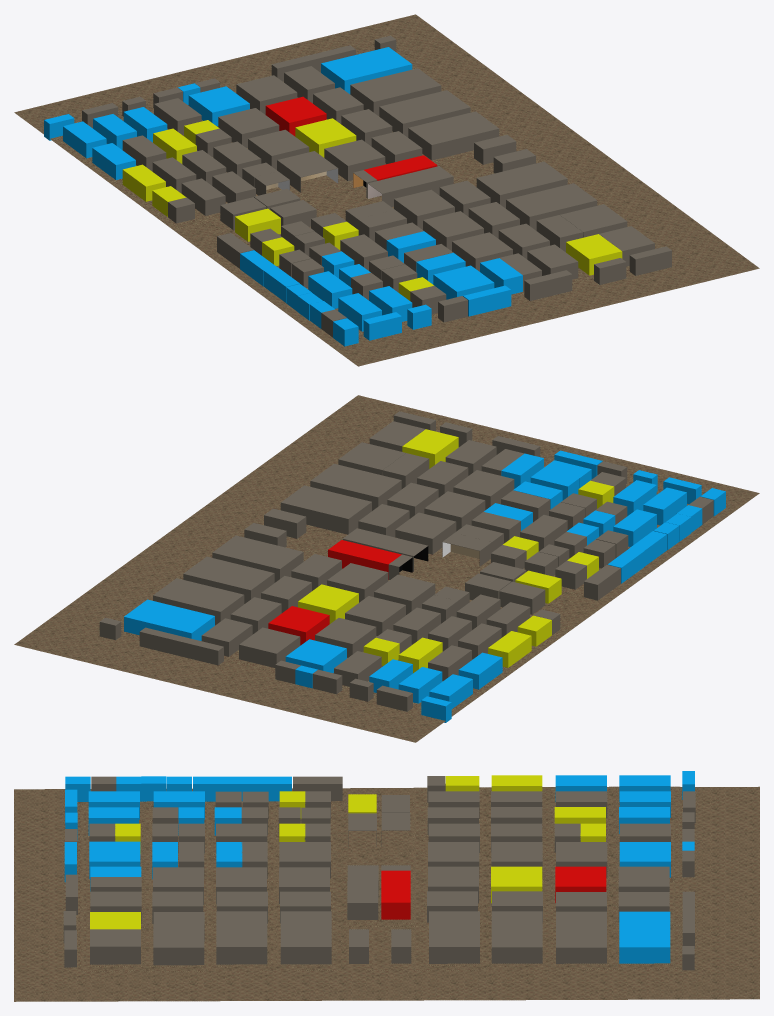
File: site.glb
3 views of the same model, one above another, from view 1: azimuth 30°, elevation 25°; view 2: azimuth 150°, elevation 25°; view 3: azimuth 270°, elevation 25° (orthographic). The views are drawn at different scales.
Parts seen in each view (by area): view 1: Floor, NAV_MESH, B3, B5, A7, B4, B6, A6, B21, B23, A21, B25 (+64 smaller); view 2: Floor, NAV_MESH, A7, B6, B4, A6, B3, B5, B8, B25, A21, A19 (+63 smaller); view 3: Floor, NAV_MESH, A6, A7, B4, B6, B3, B5, A5, A3, B19, B22 (+105 smaller).
Part boxes in pixels (<box>): Floor: <box>14,14,759,366</box>; NAV_MESH: <box>51,66,672,335</box>; B3: <box>408,111,499,160</box>; B5: <box>350,68,441,115</box>; A7: <box>476,161,567,208</box>; B4: <box>379,90,470,137</box>; B6: <box>321,47,412,93</box>; A6: <box>506,183,597,230</box>; B21: <box>324,139,385,181</box>; B23: <box>265,96,326,136</box>; A21: <box>394,189,454,229</box>; B25: <box>236,75,297,114</box>; Floor: <box>14,395,759,742</box>; NAV_MESH: <box>121,441,687,715</box>; A7: <box>280,485,371,534</box>; B6: <box>124,599,214,640</box>; B4: <box>183,556,274,603</box>; A6: <box>310,463,401,510</box>; B3: <box>212,535,303,582</box>; B5: <box>153,578,244,625</box>; B8: <box>139,627,223,665</box>; B25: <box>239,627,300,667</box>; A21: <box>395,512,456,554</box>; A19: <box>424,491,485,531</box>; Floor: <box>14,786,759,1001</box>; NAV_MESH: <box>80,786,680,971</box>; A6: <box>216,911,267,964</box>; A7: <box>280,911,331,964</box>; B4: <box>491,911,542,963</box>; B6: <box>619,911,670,963</box>; B3: <box>429,911,479,963</box>; B5: <box>556,911,606,963</box>; A5: <box>153,924,204,965</box>; A3: <box>90,929,140,964</box>; B19: <box>381,870,410,919</box>; B22: <box>491,866,542,903</box>.
Bounding box in the file's own units: 5.16 × 0.2051 × 7.65.
13 materials, 9 textured.
